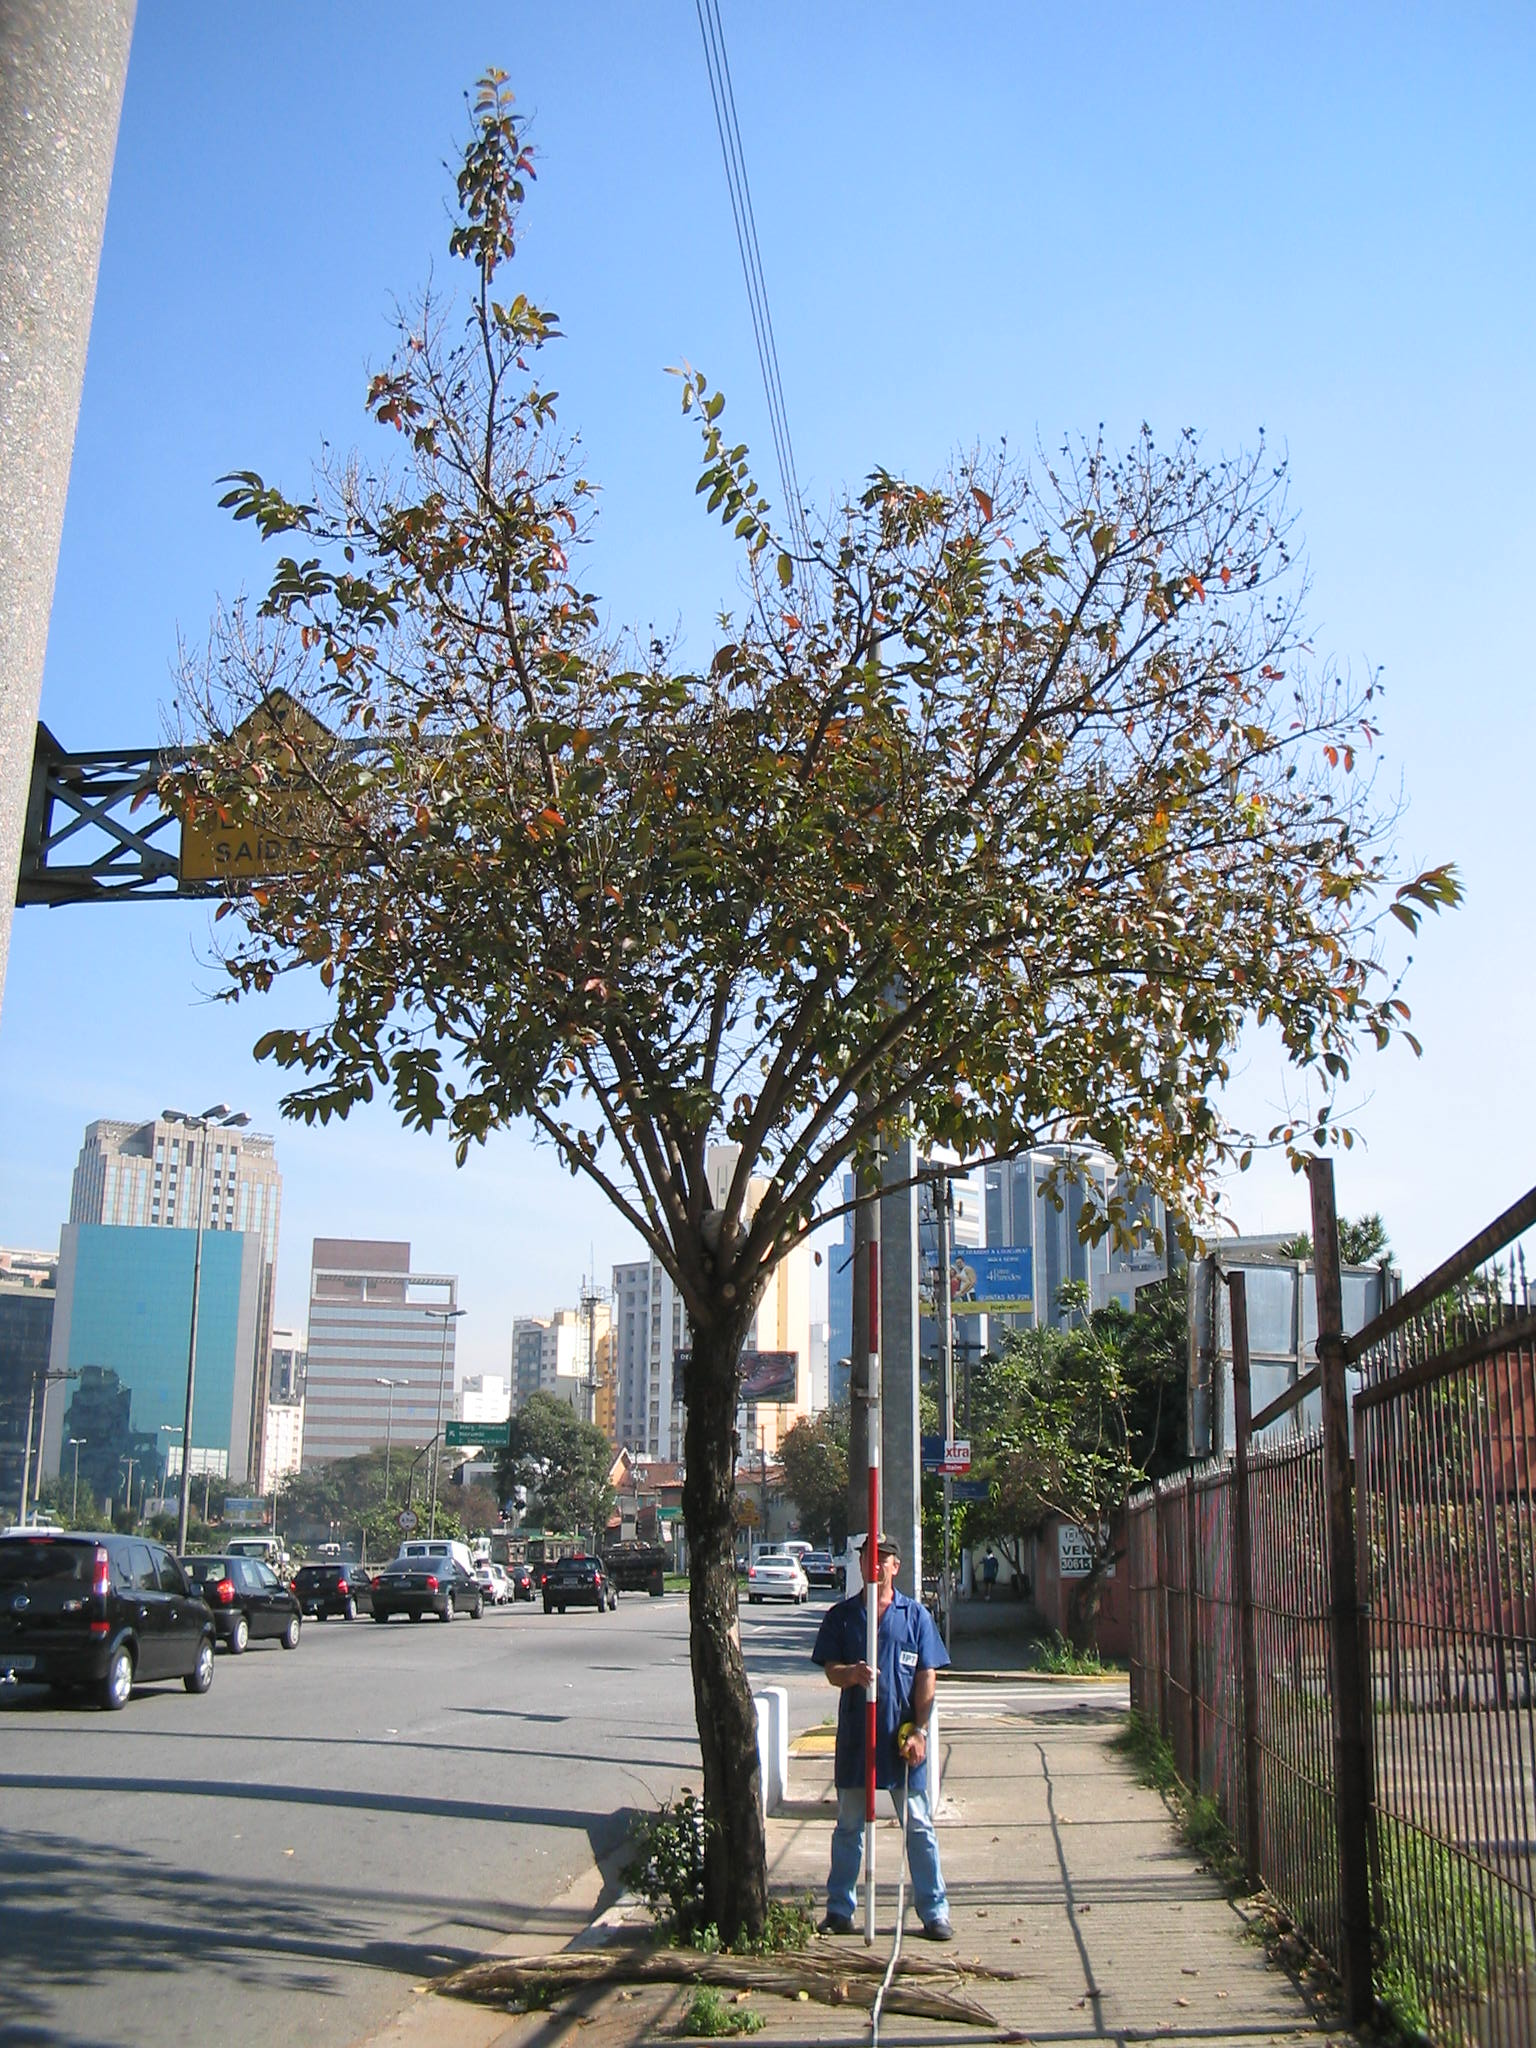crown: (145, 76, 1465, 1261)
stem: (620, 1317, 820, 1942)
stick: (834, 1121, 902, 1948)
tree: (140, 68, 1470, 1946)
